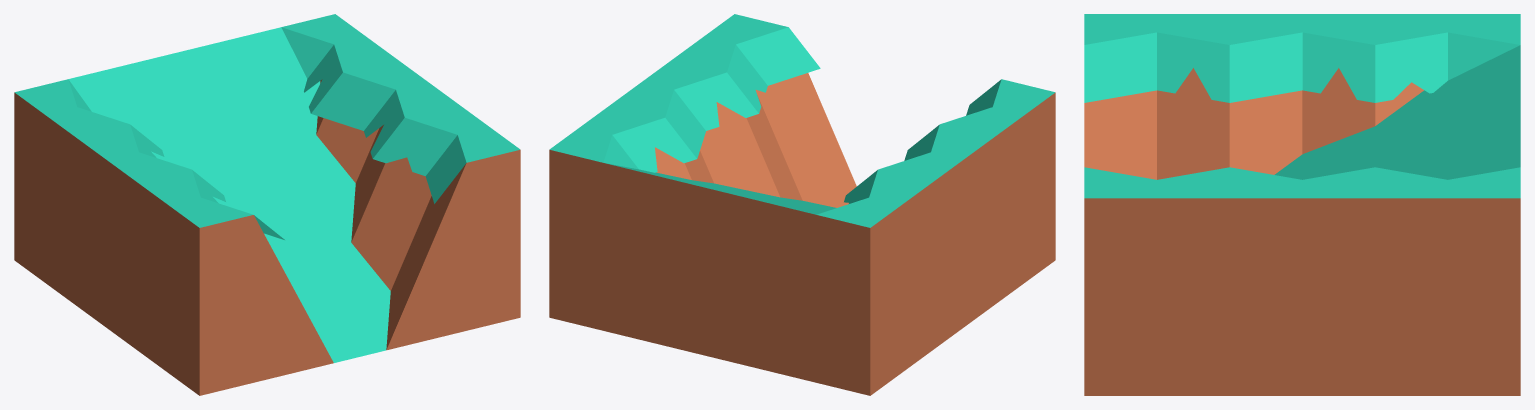
The model's file is cliff_blockSlopeHalfWalls_rock.fbx.
The picture shows the model from 3 angles, left to right: view 1: azimuth 30°, elevation 25°; view 2: azimuth 150°, elevation 25°; view 3: azimuth 270°, elevation 25°; orthographic projection. The views are drawn at different scales.
Visible parts, largest first — view 1: cliff_blockSlopeHalfWalls_rock; view 2: cliff_blockSlopeHalfWalls_rock; view 3: cliff_blockSlopeHalfWalls_rock.
Boxes of the visible parts, box(x1,y1,x2,y2) form: cliff_blockSlopeHalfWalls_rock: box(14, 14, 520, 395); cliff_blockSlopeHalfWalls_rock: box(549, 14, 1055, 395); cliff_blockSlopeHalfWalls_rock: box(1084, 14, 1520, 395).
Bounding box in the file's own units: 10 × 5 × 10.
